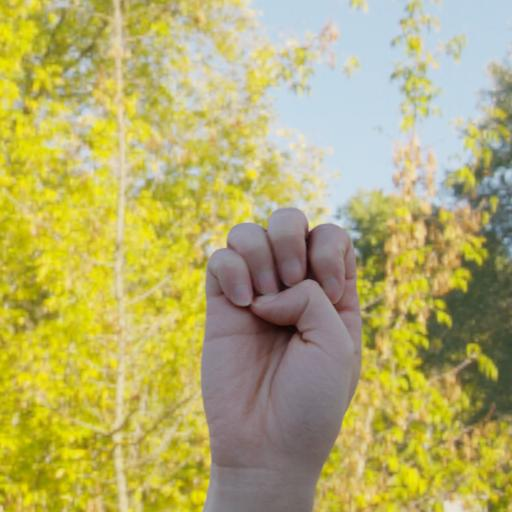E: (183, 192, 374, 497)
